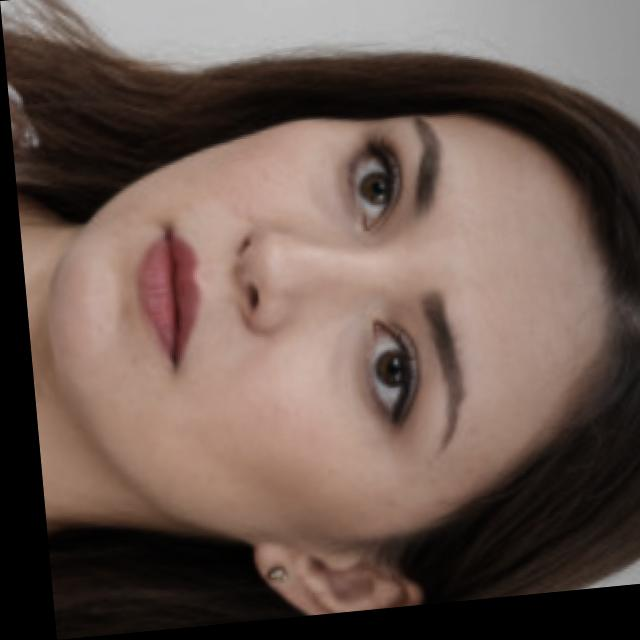natural: (63, 19, 640, 633)
